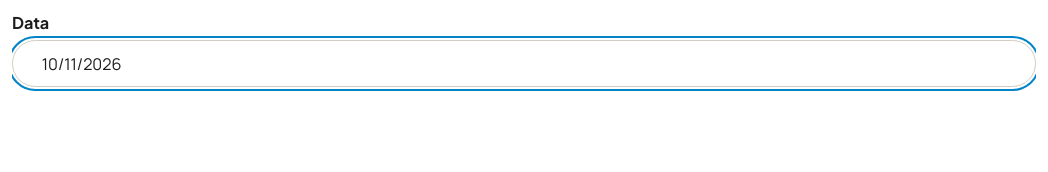
Test: DatePicker › fecha com Escape e devolve o foco ao gatilho
Step 1. Click the button named "Data" → (82, 64), box [12,40,1036,87]
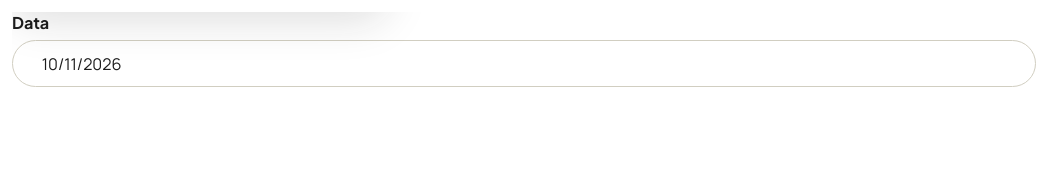
Step 2. Press Escape
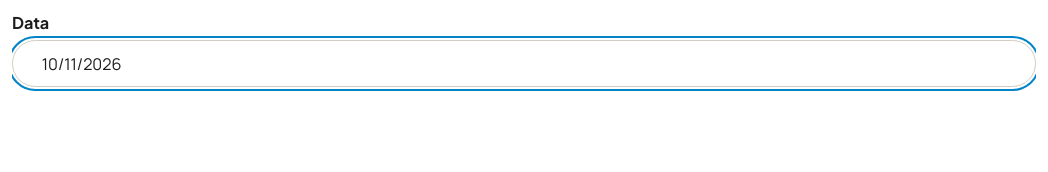
Now the button named "Data" is collapsed, box [12,40,1036,87]
